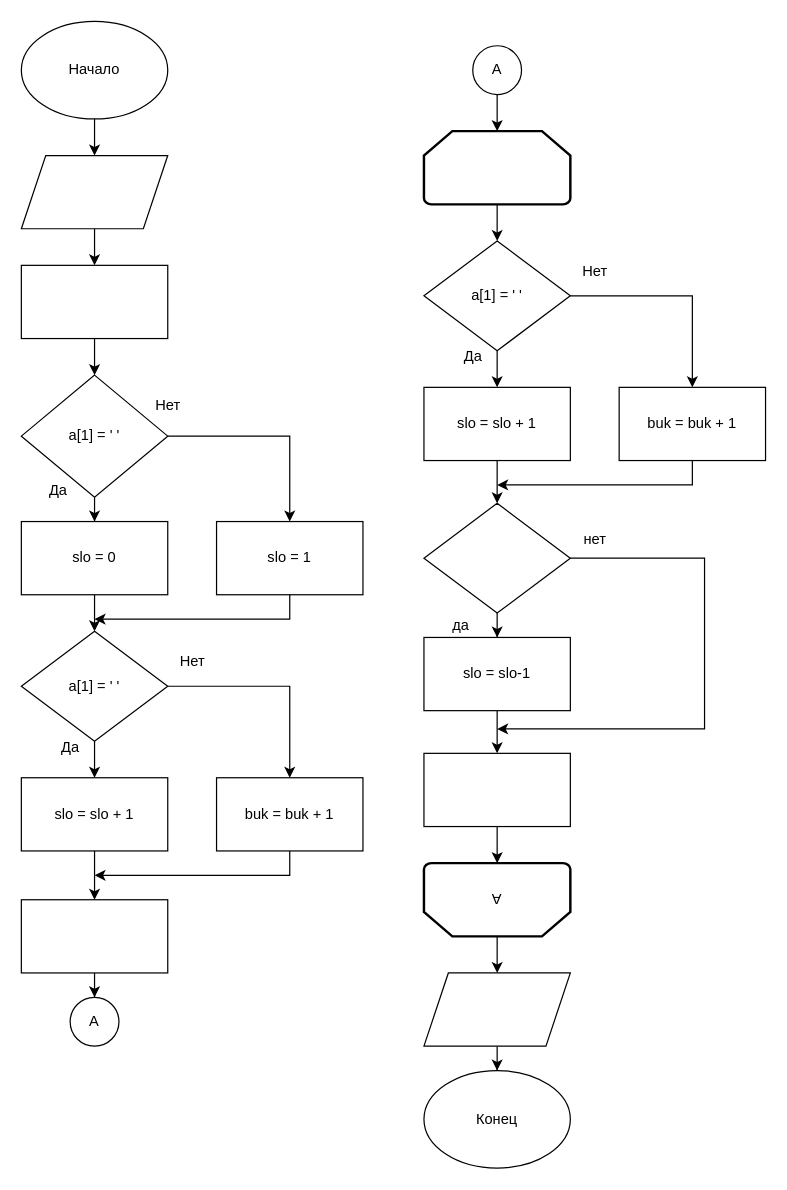
Some shapes in this 787 by 1190 pixel diagram are drawn without their labels. The centre of each missing label's shape, as x and y in pixels:
"(a[i]= ' ') и (a[i-1] = ' ')" goes at pixel 496 557.
"A i = length(a)" goes at pixel 496 167.
"buk = 0" goes at pixel 94 301.
"i = 2" goes at pixel 94 936.
"i = i + 1" goes at pixel 496 789.
"Ввод а" goes at pixel 94 191.
"Вывести slo, buk" goes at pixel 496 1009.
